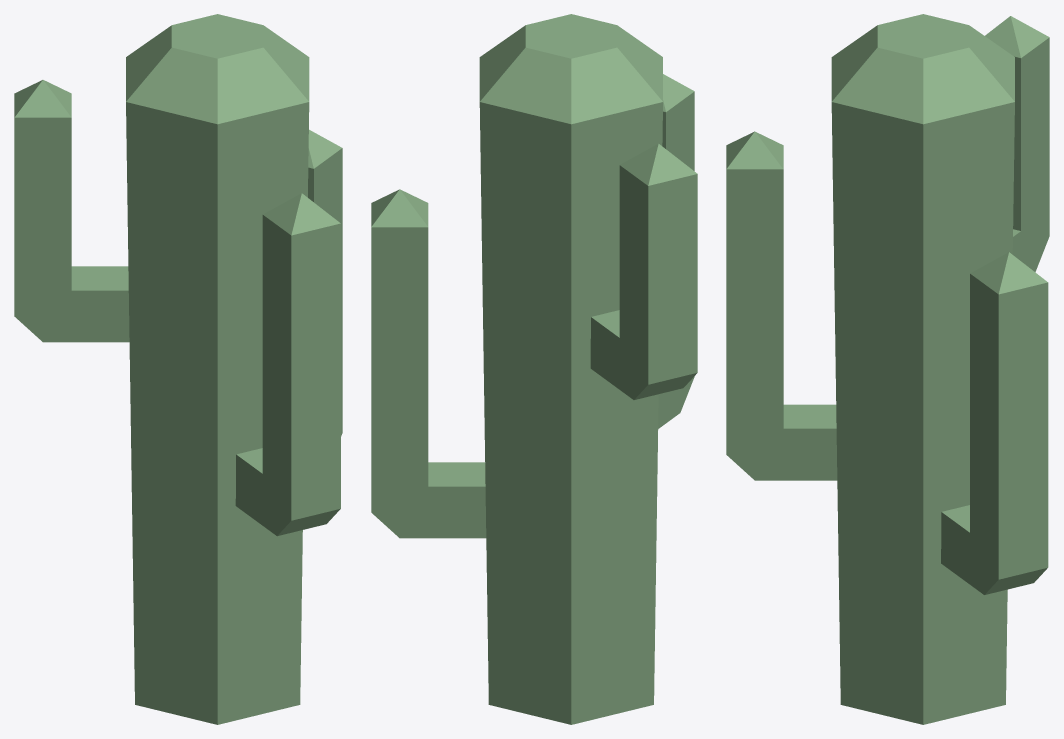
The model's file is cactus_b.glb.
3 views of the same model, side by side, from view 1: azimuth 30°, elevation 25°; view 2: azimuth 150°, elevation 25°; view 3: azimuth 270°, elevation 25° (orthographic).
Visible parts, largest first — view 1: cactus_b; view 2: cactus_b; view 3: cactus_b.
Part boxes in pixels (x1,y1,x2,y2): cactus_b: (14,14,342,724); cactus_b: (371,14,697,724); cactus_b: (726,14,1049,724).
Bounding box in the file's own units: 17.96 × 34 × 15.37.
